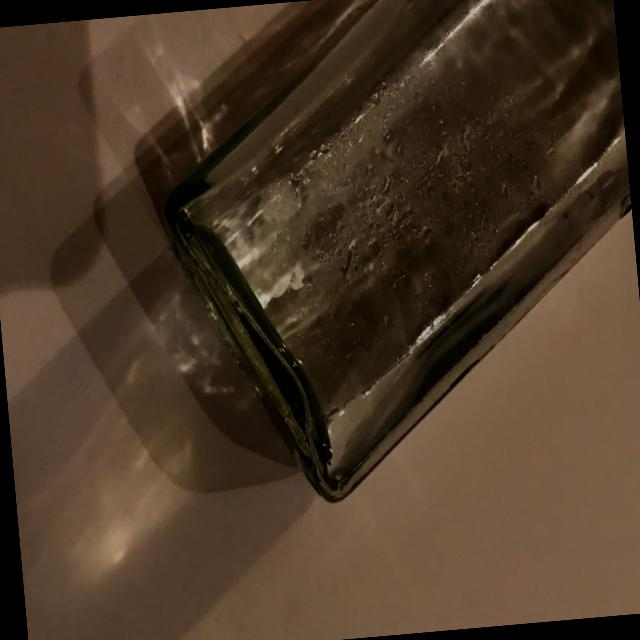Glass: (127, 0, 640, 551)
